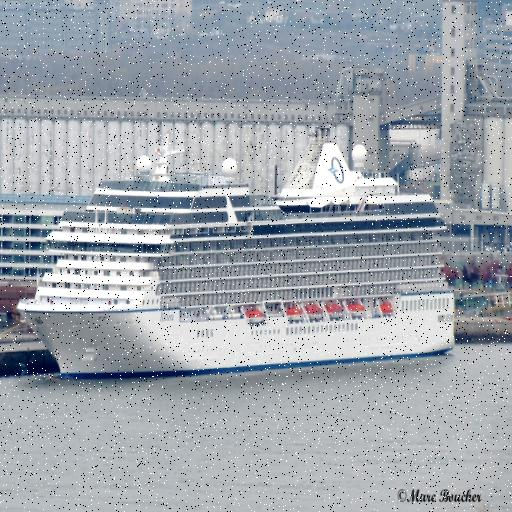cruises: (12, 118, 463, 378)
